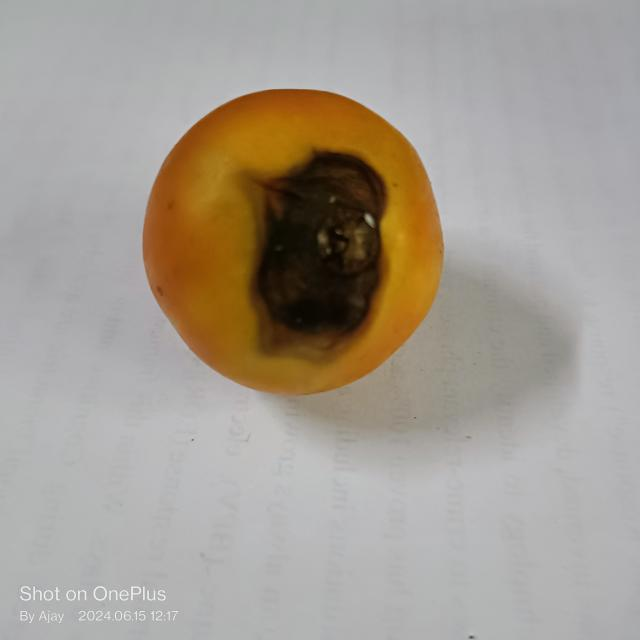Anthrocnose: (252, 146, 389, 359)
